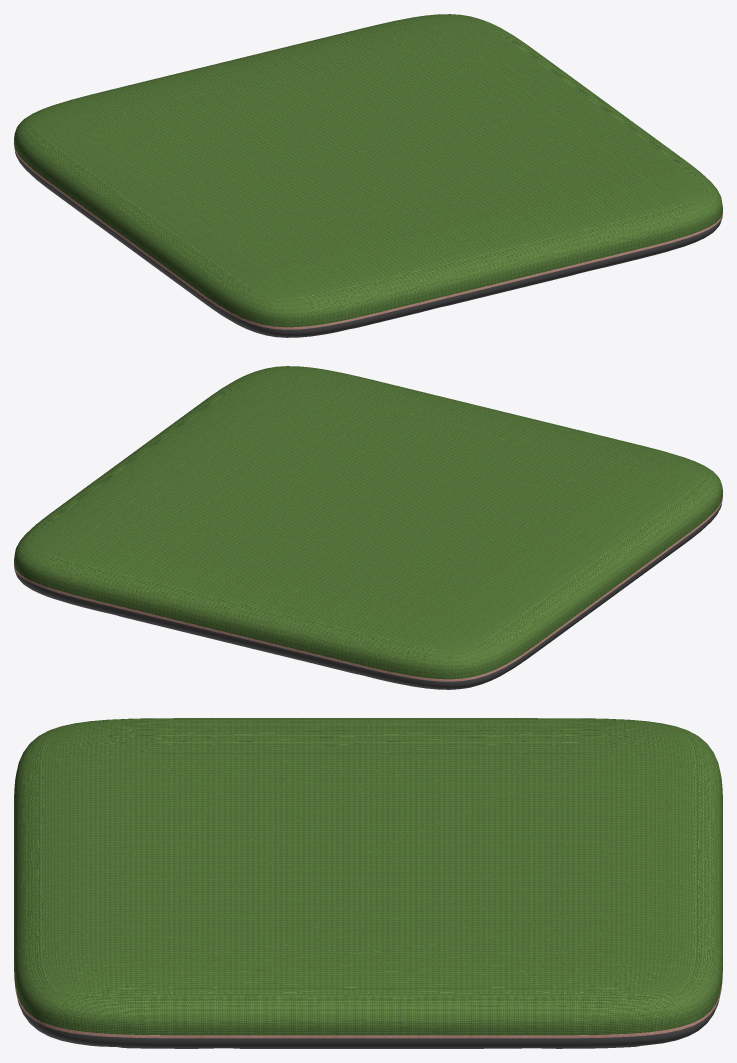
File: MBC.glb
The picture shows the model from 3 angles, top to bottom: view 1: azimuth 30°, elevation 25°; view 2: azimuth 150°, elevation 25°; view 3: azimuth 270°, elevation 25°; orthographic projection. The views are drawn at different scales.
Parts seen in each view (by area): view 1: Top, Bottom, Middle; view 2: Top, Bottom, Middle; view 3: Top, Bottom, Middle.
Boxes of the visible parts, bbox=[...] form: Top: bbox=[14, 14, 722, 327]; Bottom: bbox=[15, 151, 722, 337]; Middle: bbox=[14, 144, 722, 329]; Top: bbox=[14, 366, 722, 679]; Bottom: bbox=[14, 503, 721, 689]; Middle: bbox=[14, 496, 722, 681]; Top: bbox=[14, 718, 722, 1035]; Bottom: bbox=[14, 978, 720, 1048]; Middle: bbox=[14, 971, 722, 1038].
Size of the model in its own units: 0.63 by 0.085 by 0.63.
Materials: 4 (2 with a texture image).
